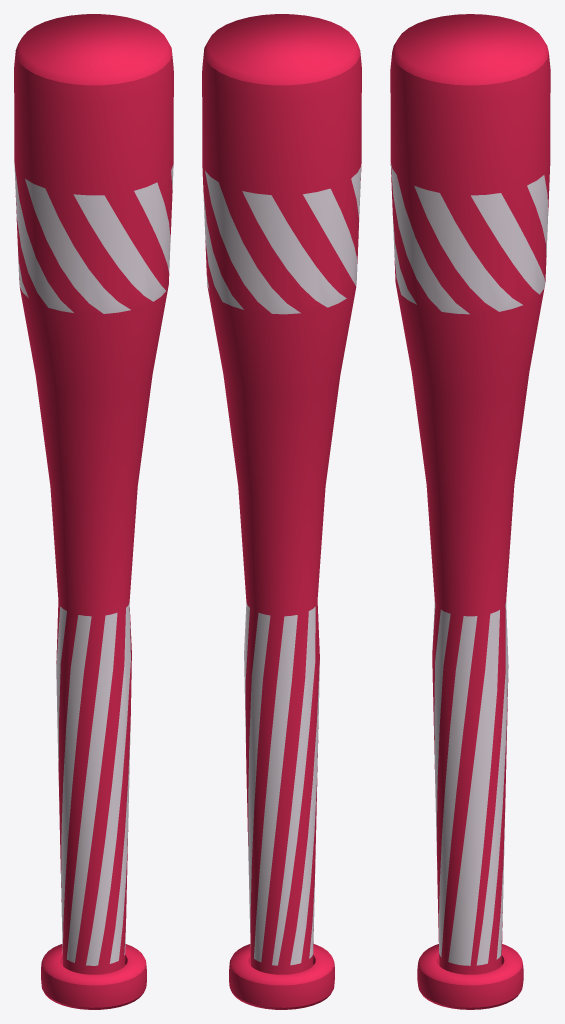
File: bita.fbx
The picture shows the model from 3 angles, left to right: view 1: azimuth 30°, elevation 25°; view 2: azimuth 150°, elevation 25°; view 3: azimuth 270°, elevation 25°; orthographic projection.
Visible parts, largest first — view 1: Cylinder; view 2: Cylinder; view 3: Cylinder.
Boxes of the visible parts, x1,y1,x2,y2 form: Cylinder: (14, 14, 173, 1009); Cylinder: (202, 14, 361, 1009); Cylinder: (390, 14, 550, 1009).
Size of the model in its own units: 134 by 870 by 134.
1 material, 1 textured.
